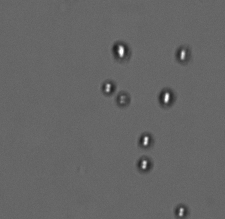Dead Cell: (115, 90, 130, 107)
Living Cell: (157, 88, 178, 108), (110, 41, 130, 61), (174, 44, 193, 65), (137, 132, 156, 150), (137, 156, 154, 173), (100, 80, 114, 96), (173, 204, 189, 217)
